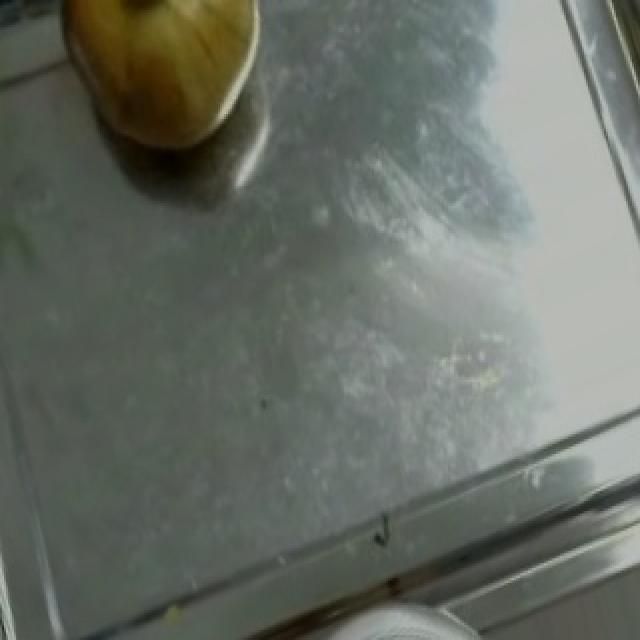fruit: (40, 0, 298, 179)
